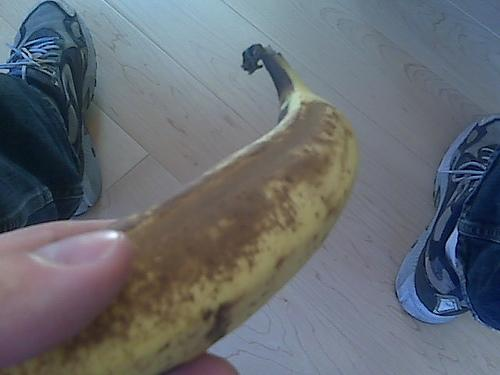banana: (3, 44, 358, 374)
